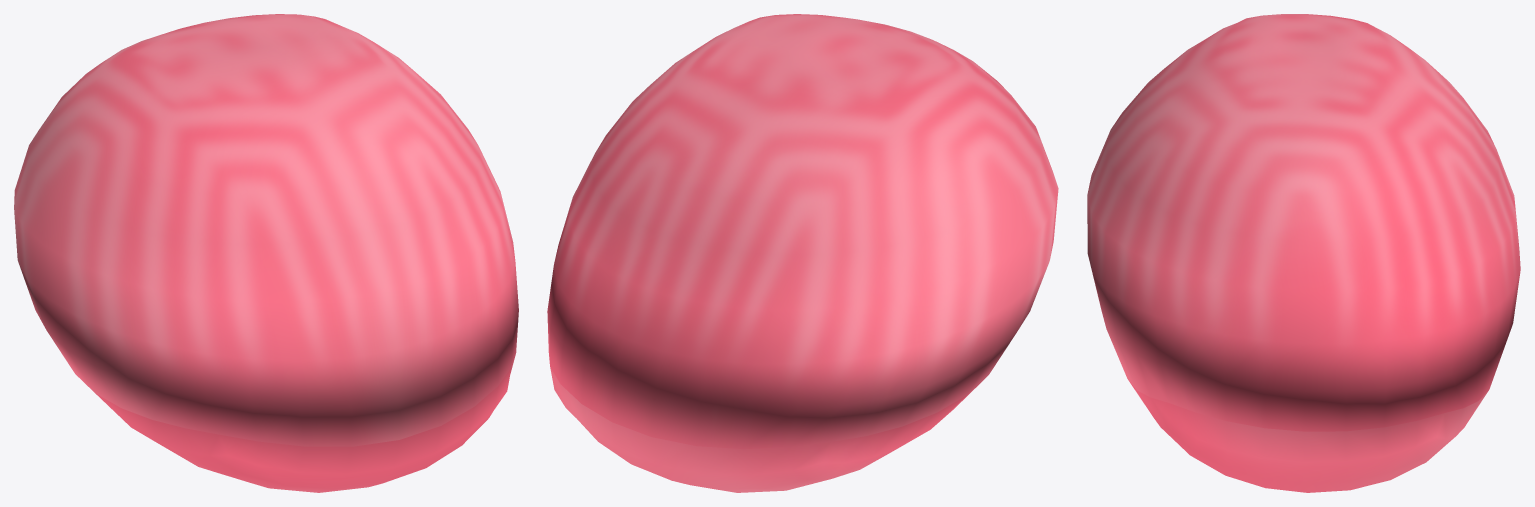
File: cake 1.fbx
The picture shows the model from 3 angles, left to right: view 1: azimuth 30°, elevation 25°; view 2: azimuth 150°, elevation 25°; view 3: azimuth 270°, elevation 25°; orthographic projection. The views are drawn at different scales.
Parts seen in each view (by area): view 1: daugh; view 2: daugh; view 3: daugh.
Part boxes in pixels (left/top/right/bottom): daugh: left=14, top=14, right=518, bottom=492; daugh: left=547, top=14, right=1058, bottom=492; daugh: left=1087, top=14, right=1520, bottom=492.
Bounding box in the file's own units: 5.41 × 5.28 × 5.23.
